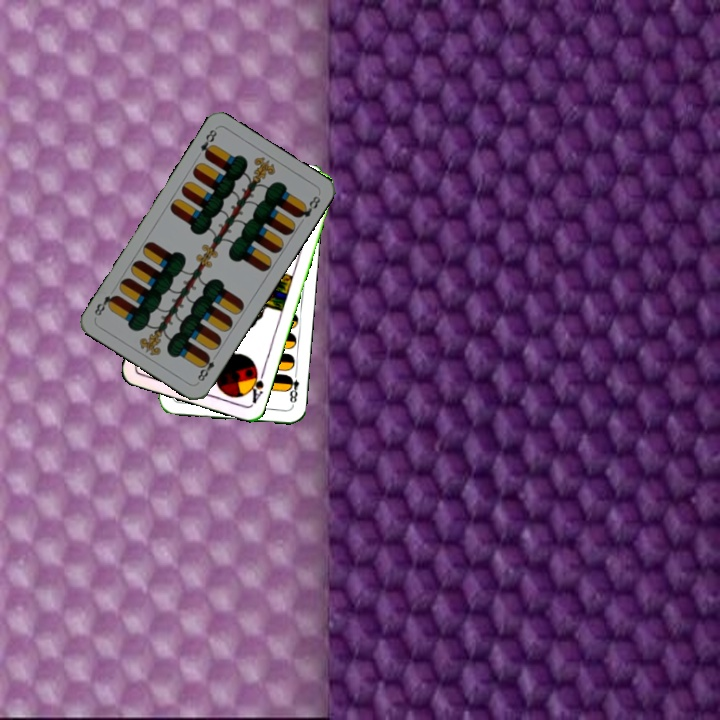E8: (193, 349, 221, 384), (196, 125, 220, 161), (284, 368, 301, 408)
SA: (244, 364, 267, 406)
